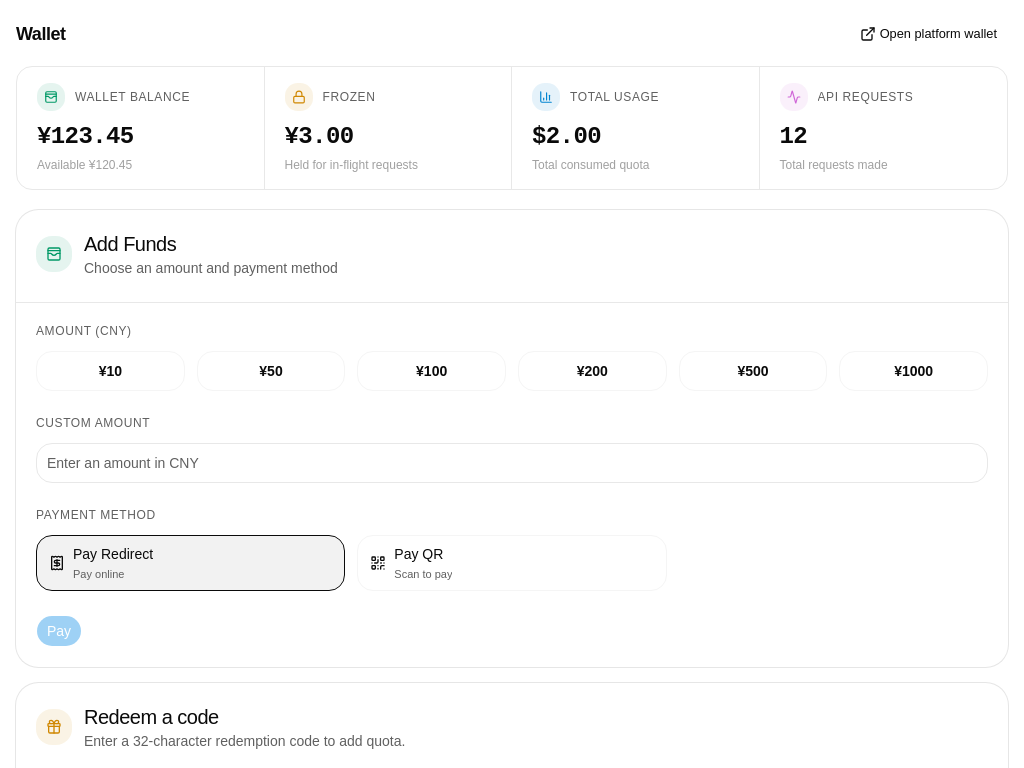
Test case: top-up › shows a scan code for QR methods and reflects the paid order
This screenshot has width=1024, height=768.
Click the button "¥50" at (271, 371), box top-left (197, 351), bottom-right (345, 391)
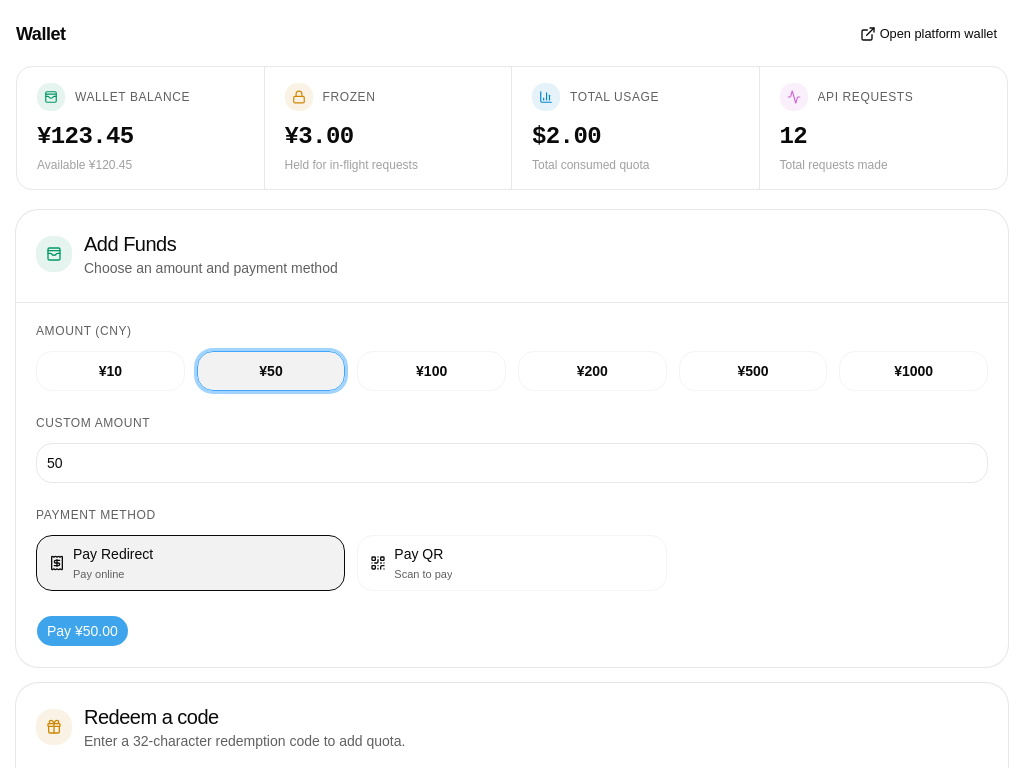
Click the radio button labelled "Pay QR Scan to pay" at (419, 554), box top-left (357, 535), bottom-right (667, 591)
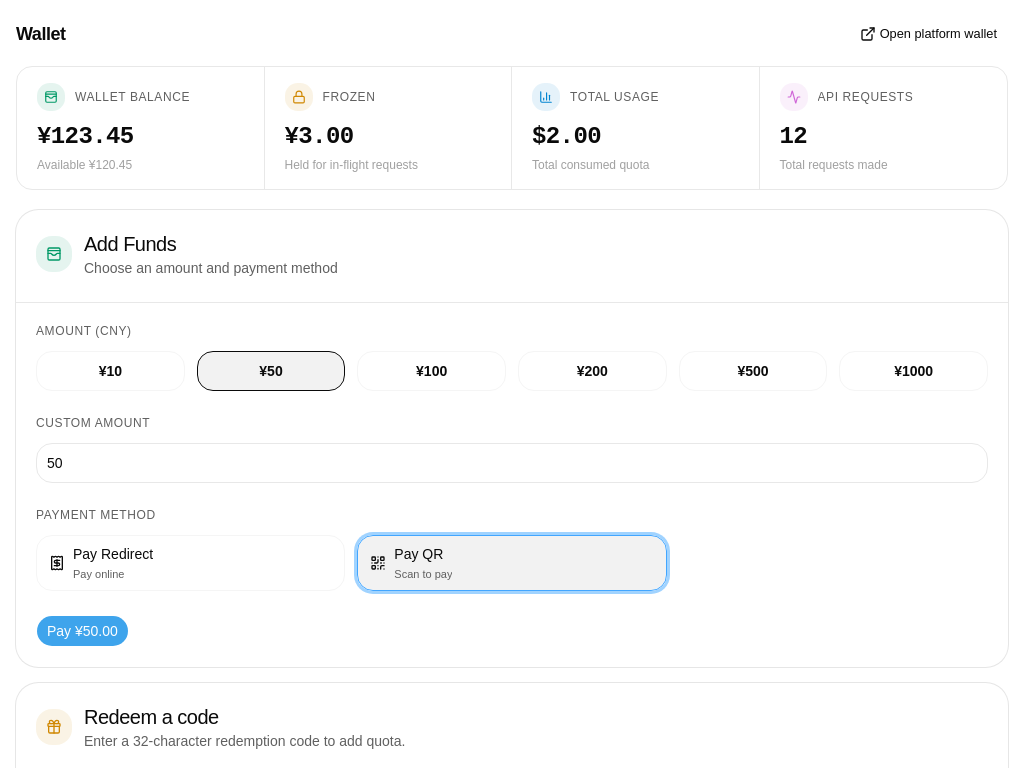
Click the button "Pay ¥50.00" at (82, 631), box top-left (36, 615), bottom-right (129, 647)
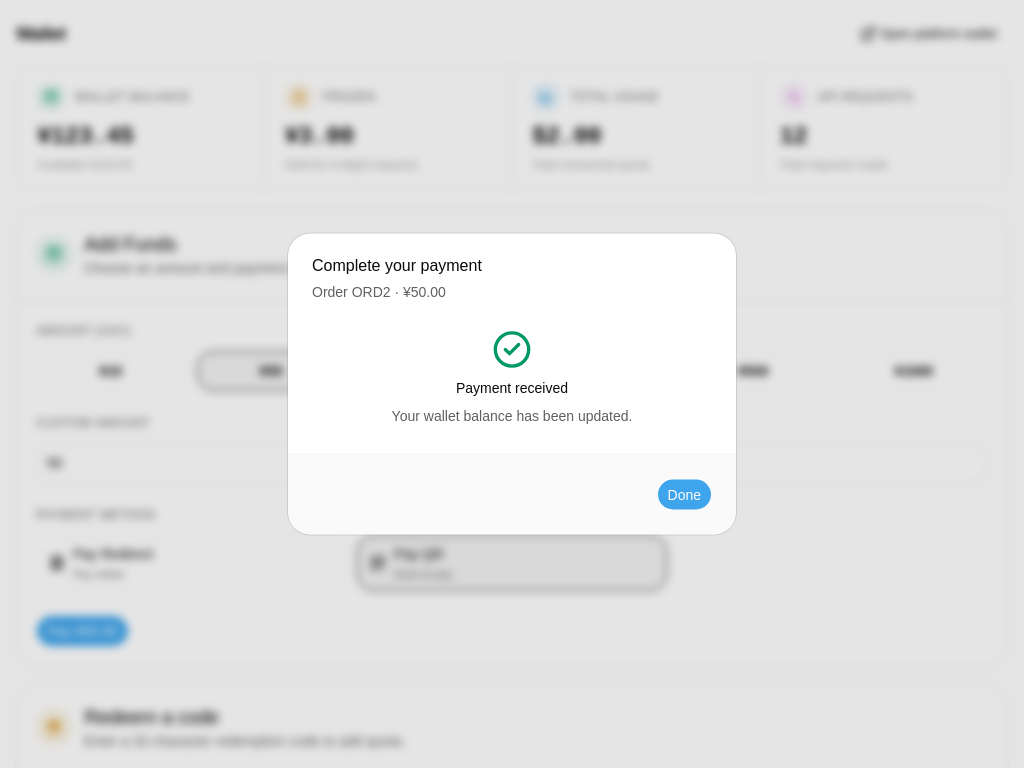
Expected: the text "Payment received" is shown, top-left (456, 378), bottom-right (568, 398)
